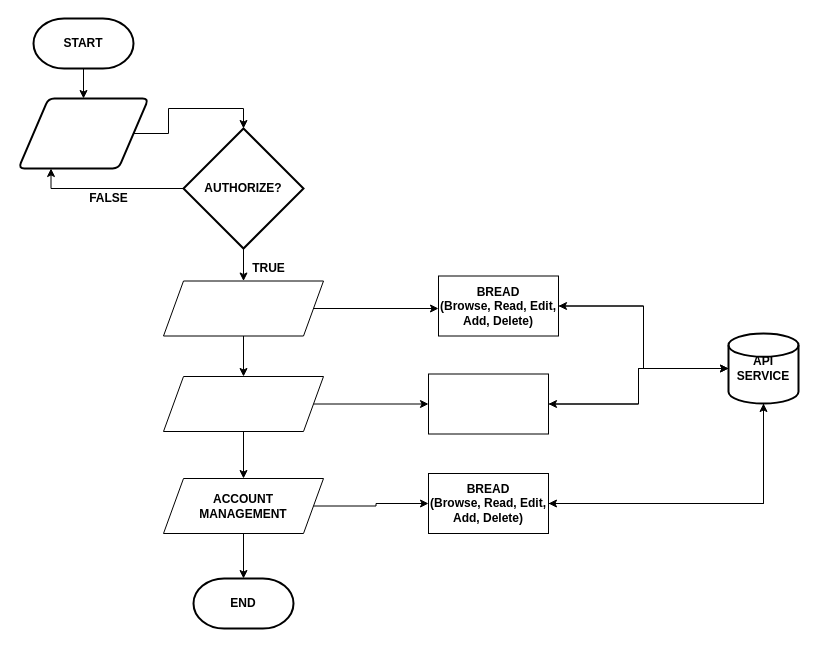
Image size: 816x646. Some labels were removed from this diagram. The shapes that lost their labels are listed below. From the top down, each one's box as (x1, y1, x2, y2) in pixels, then its label:
(17, 97, 149, 169): LOGIN USING CREDENTIALS
(162, 280, 324, 336): USER MANAGEMENT
(162, 376, 324, 432): DATA MANAGEMENT
(428, 373, 548, 434): IMPORT EXPORT
